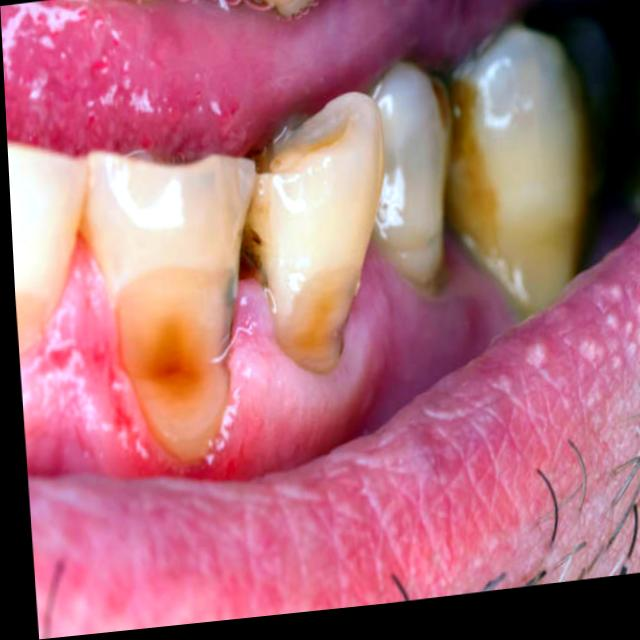gingivitis: (183, 250, 516, 479), (20, 252, 170, 477)
